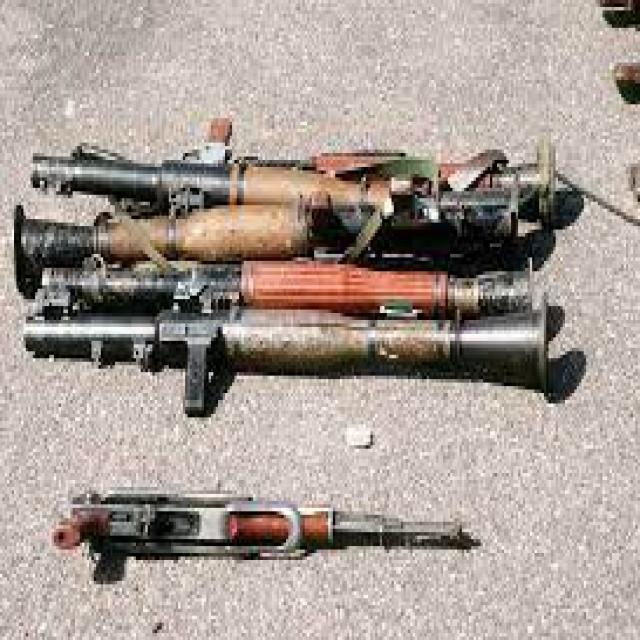Gun: (6, 174, 568, 392)
